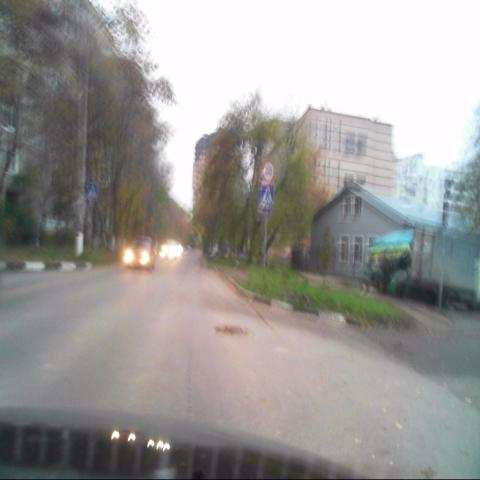3_24: (262, 161, 274, 181)
5_19_1: (261, 184, 273, 207), (88, 184, 97, 203)
